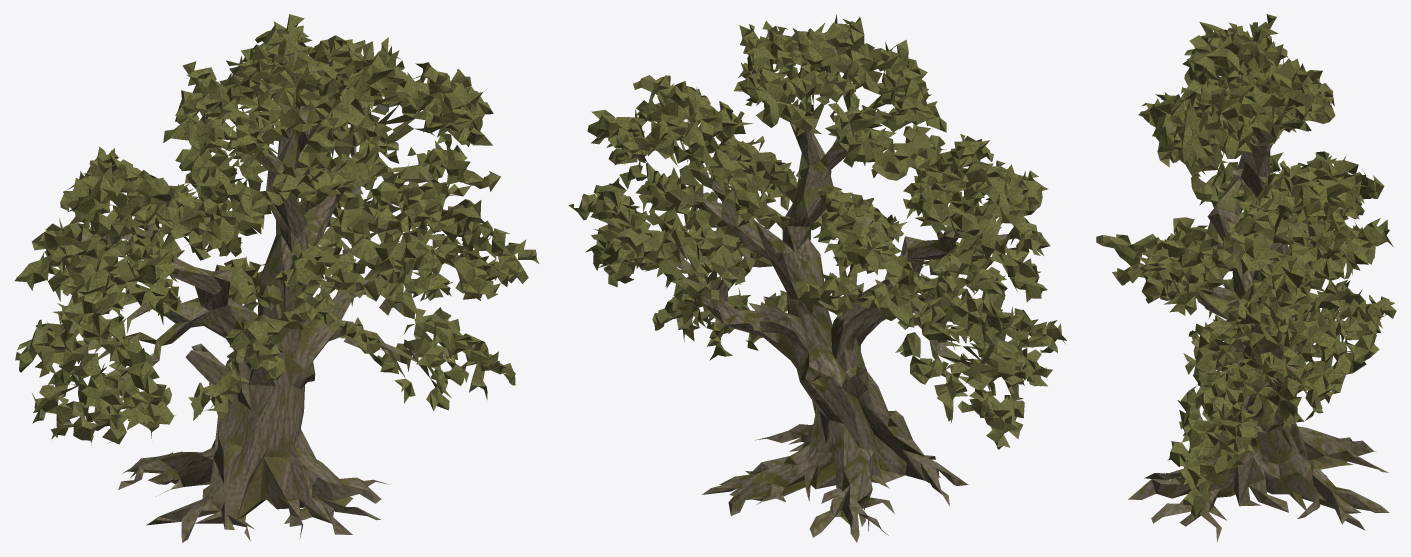
File: oak.glb
The picture shows the model from 3 angles, left to right: view 1: azimuth 30°, elevation 25°; view 2: azimuth 150°, elevation 25°; view 3: azimuth 270°, elevation 25°; orthographic projection. The views are drawn at different scales.
Bounding box in the file's own units: 1.87 × 1.68 × 0.9792.
1 material, 1 textured.
